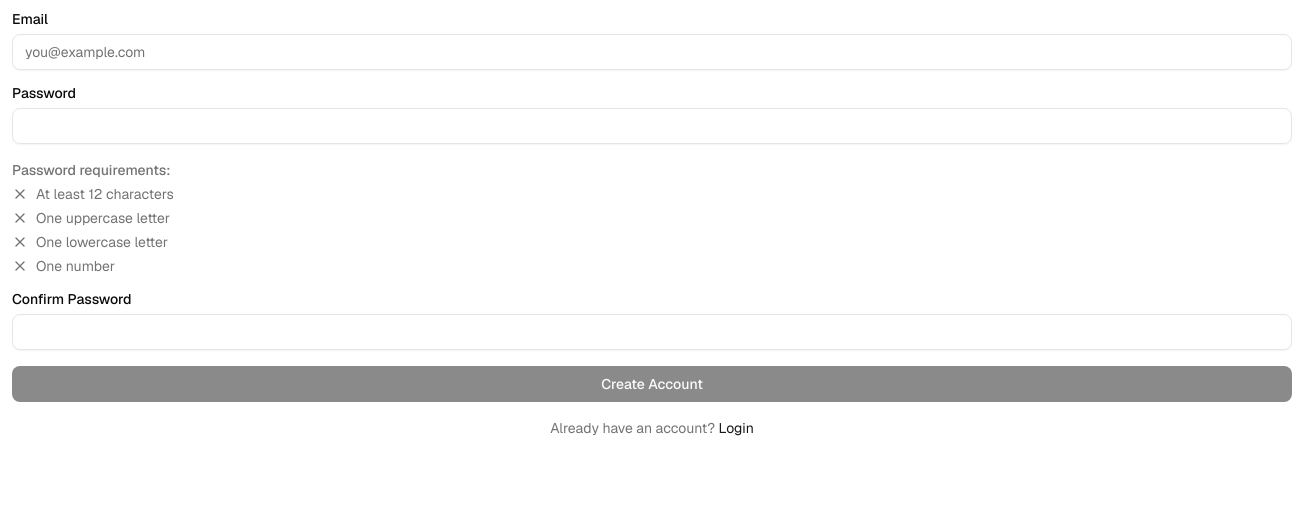
Test case: RegisterForm › should show generic error message for other API errors
Type "test@example.com" into the field labelled "Email" at (652,52), box [12,34,1292,70]
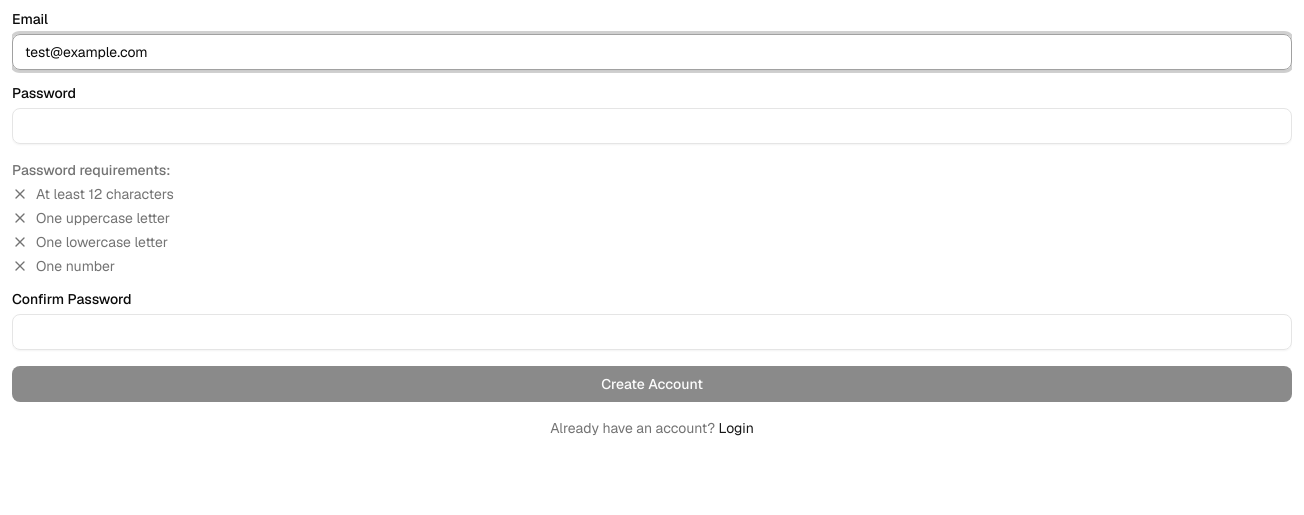
Type "SecurePass123" into the password field labelled "Password" at (652,126), box [12,108,1292,144]
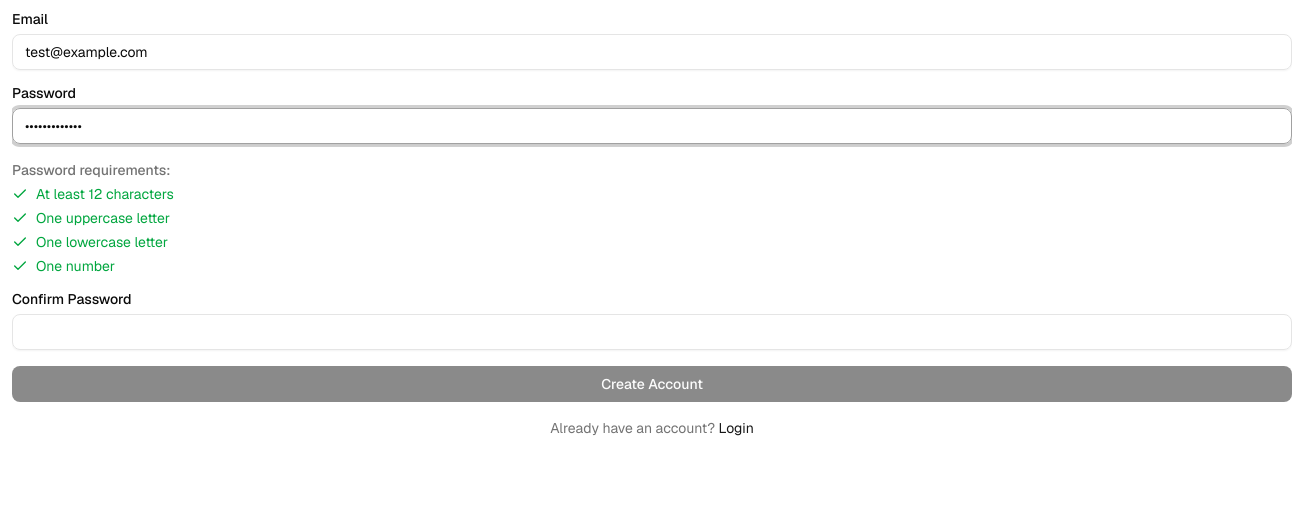
Type "SecurePass123" into the password field labelled "Confirm Password" at (652,332), box [12,314,1292,350]
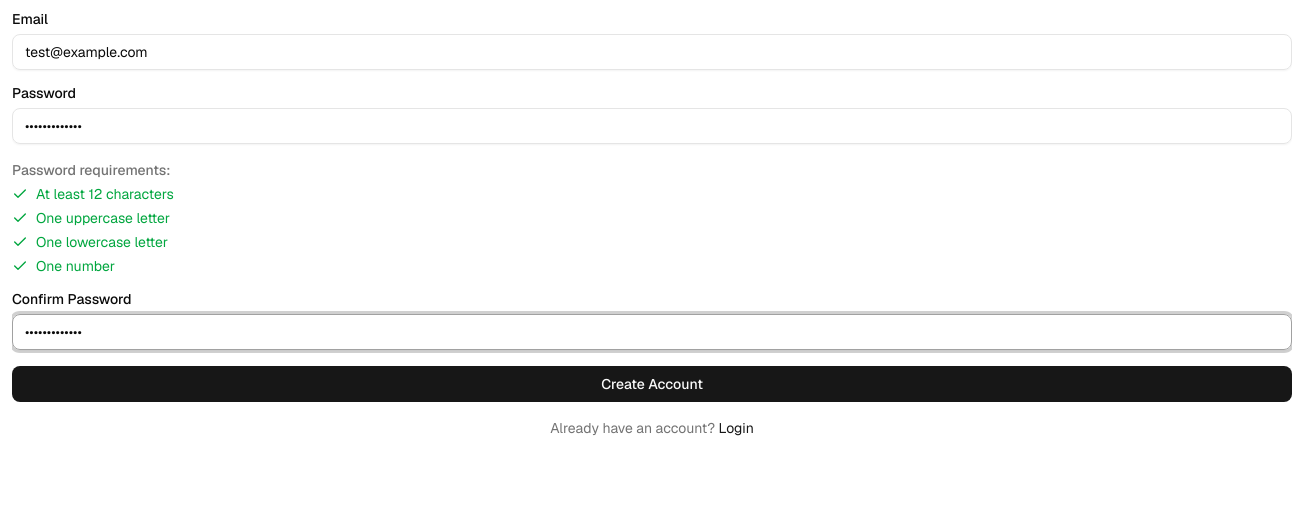
Click the button "Create Account" at (652,384), box [12,366,1292,402]
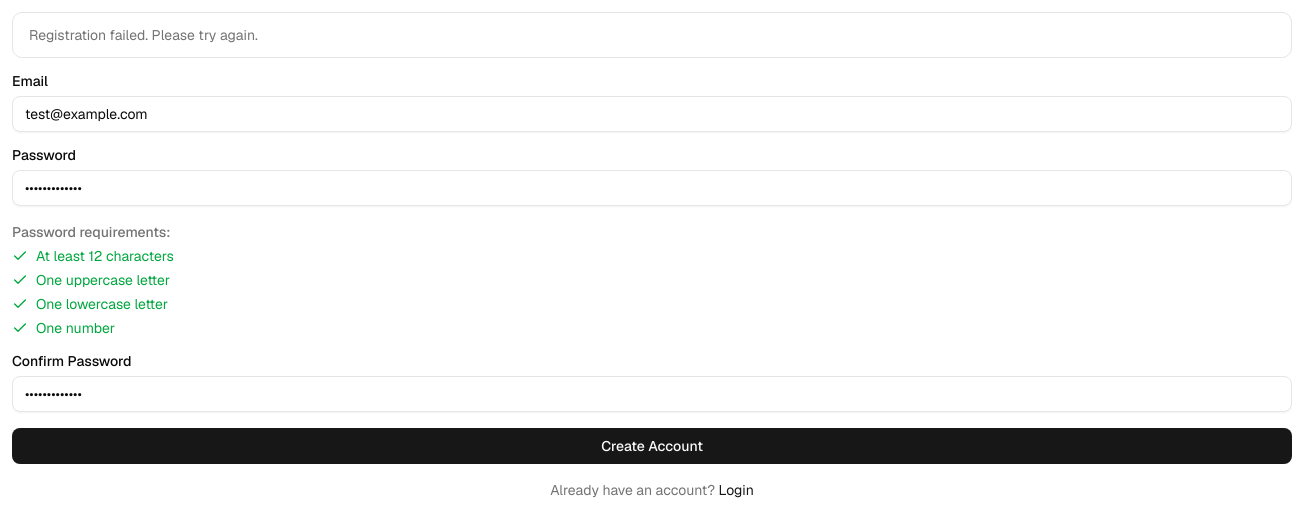
Expected: the text "Registration failed. Please try again." is shown, [29,26,258,44]
